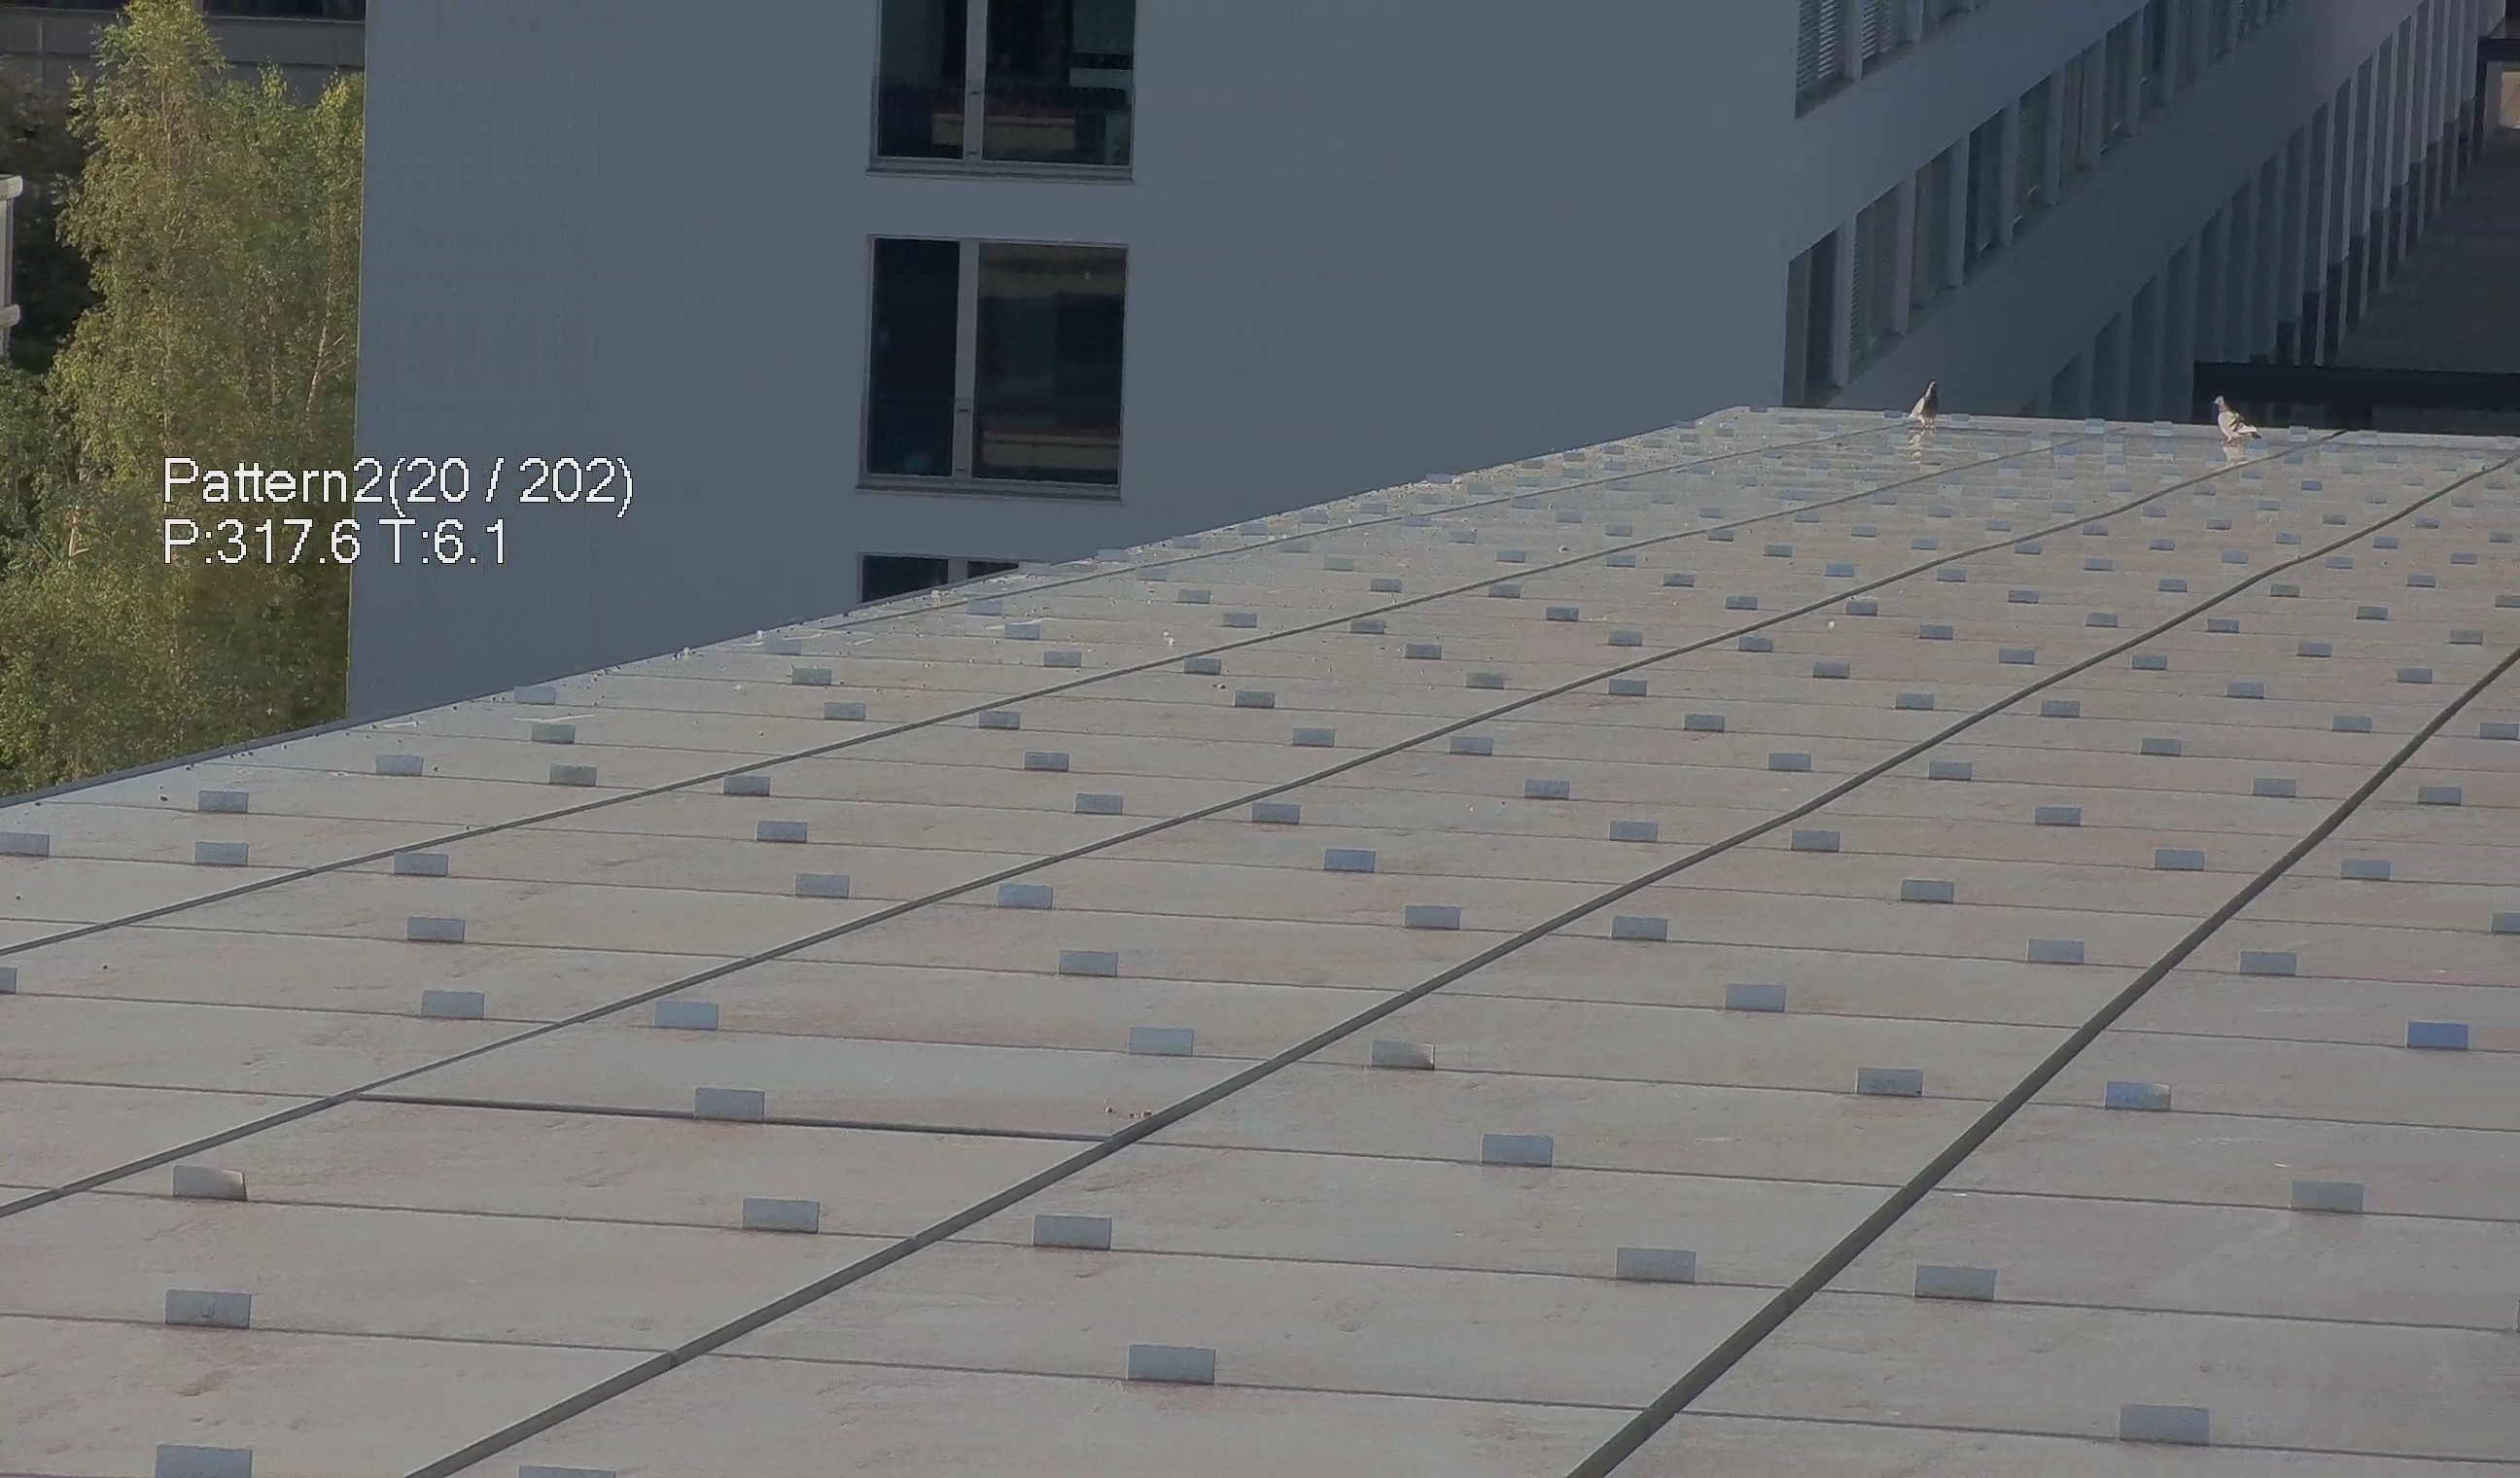Pigeon: (2214, 371, 2283, 459), (1905, 373, 1948, 438)
